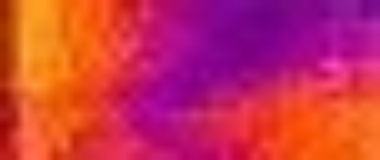Shadow: (139, 1, 380, 75), (118, 76, 263, 160)
